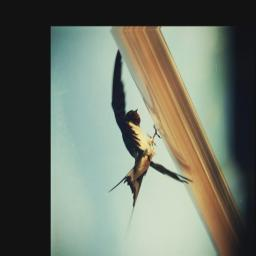Swallow: (102, 44, 194, 239)
